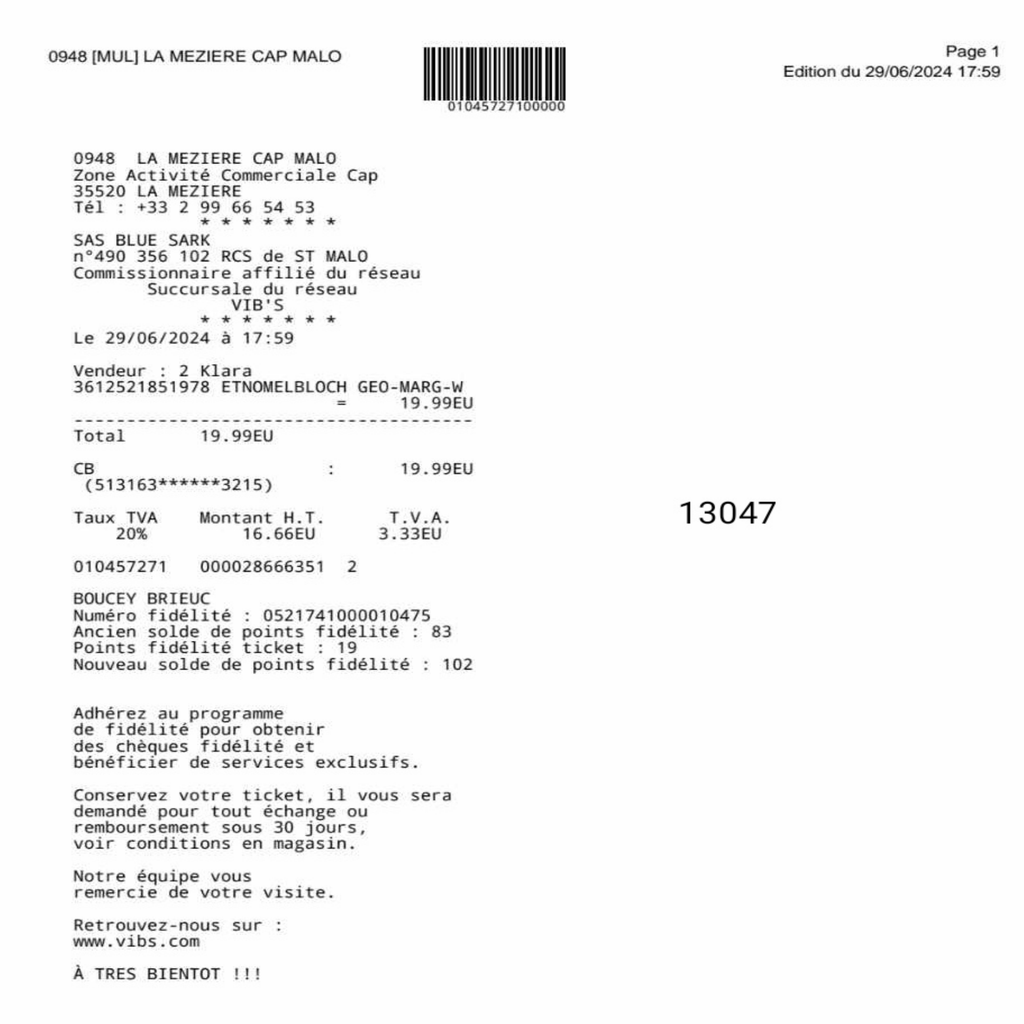recipt: (6, 4, 1018, 1016)
